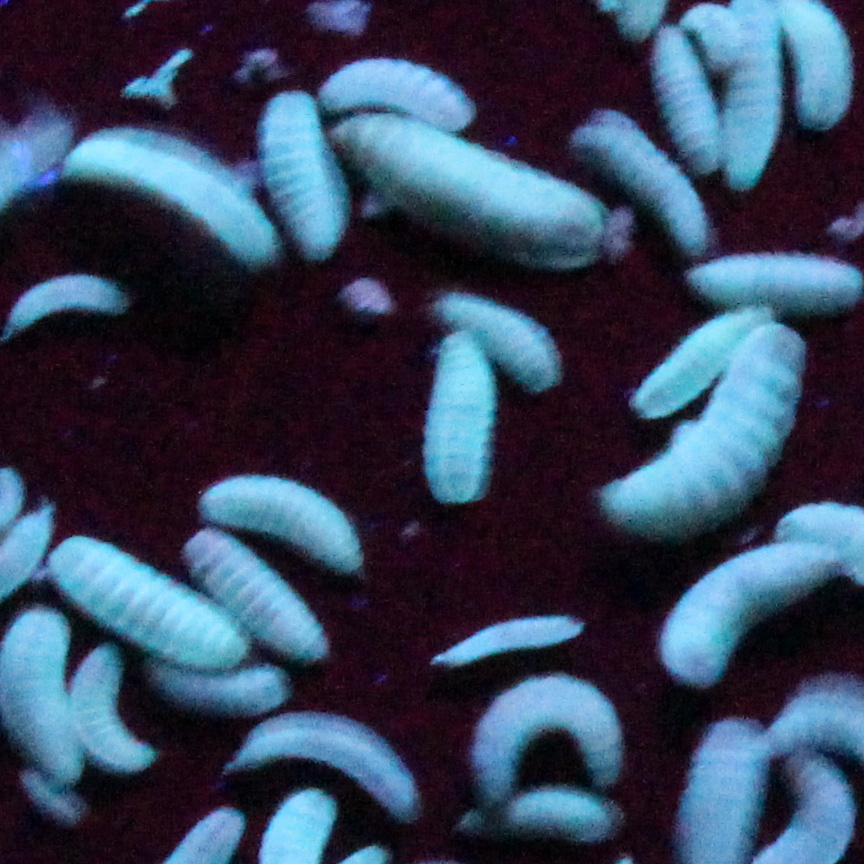larve: (593, 324, 792, 533), (72, 121, 289, 263), (48, 544, 252, 663), (653, 551, 834, 677), (357, 141, 592, 233), (462, 668, 615, 790), (181, 537, 331, 660), (620, 308, 776, 426), (257, 720, 419, 813), (195, 490, 368, 563), (262, 89, 342, 235), (442, 291, 561, 387), (608, 121, 702, 241), (128, 656, 289, 717), (436, 317, 486, 507), (343, 53, 460, 134), (78, 643, 146, 768), (430, 614, 581, 665), (508, 782, 614, 840), (664, 29, 698, 121), (701, 2, 738, 72)
